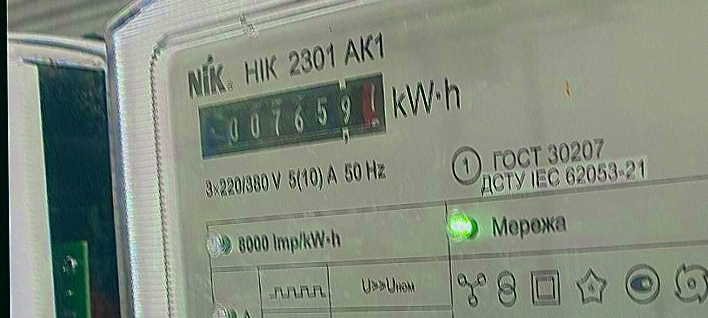0: (227, 113, 241, 141), (248, 111, 262, 138)
1: (366, 83, 378, 114)
5: (314, 95, 329, 127)
6: (292, 102, 306, 134)
7: (269, 105, 284, 137)
9: (338, 92, 353, 126)
screen: (184, 66, 406, 164)
